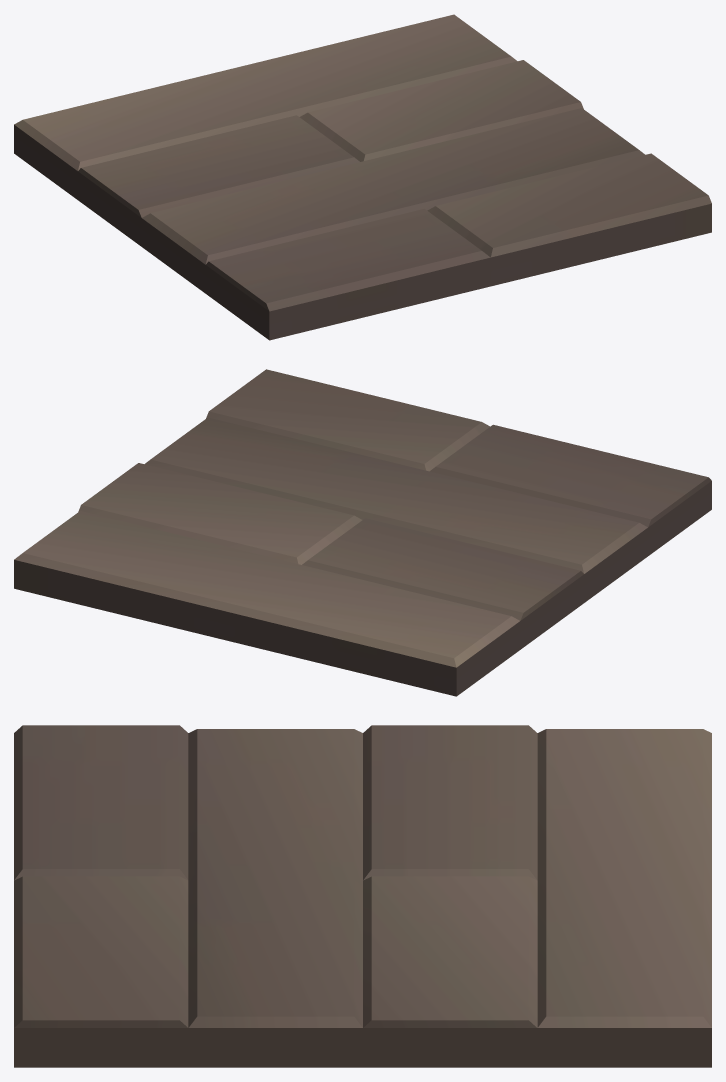
The model's file is floor_wood_small_dark.glb.
3 renders of one model, top to bottom at view 1: azimuth 30°, elevation 25°; view 2: azimuth 150°, elevation 25°; view 3: azimuth 270°, elevation 25°, orthographic. The views are drawn at different scales.
Parts seen in each view (by area): view 1: floor_wood_small_dark; view 2: floor_wood_small_dark; view 3: floor_wood_small_dark.
Boxes of the visible parts, x1=… form: floor_wood_small_dark: x1=14, y1=14, x2=711, y2=340; floor_wood_small_dark: x1=14, y1=369, x2=711, y2=696; floor_wood_small_dark: x1=14, y1=725, x2=711, y2=1067.
Bounding box in the file's own units: 2 × 0.1499 × 2.
1 material, 1 textured.
